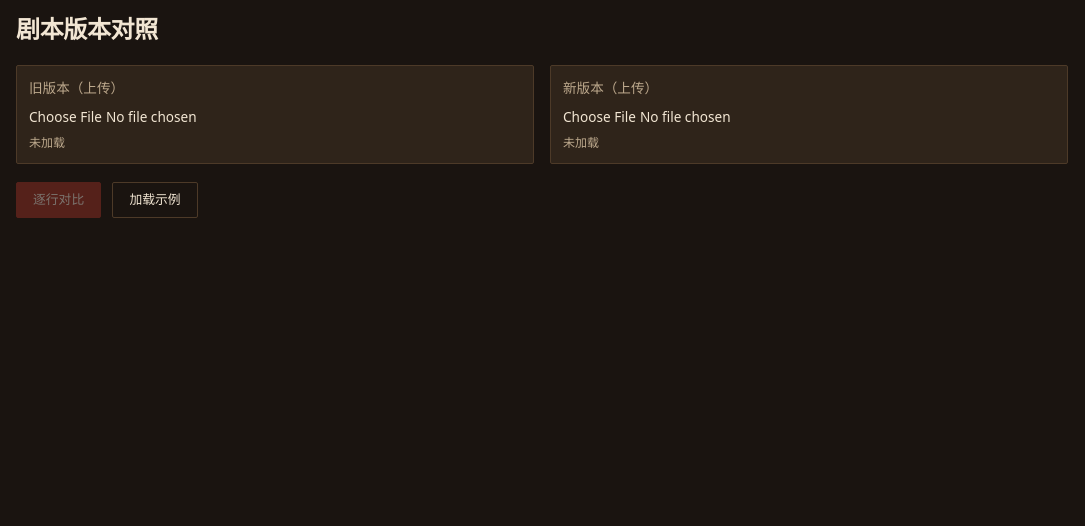
Test case: VersionCompare 双栏逐行 diff › 加载示例并逐行对比，渲染双栏与增删统计
The image size is (1085, 526).
Click the button "加载示例".
click(155, 200)  # box [112, 182, 198, 218]
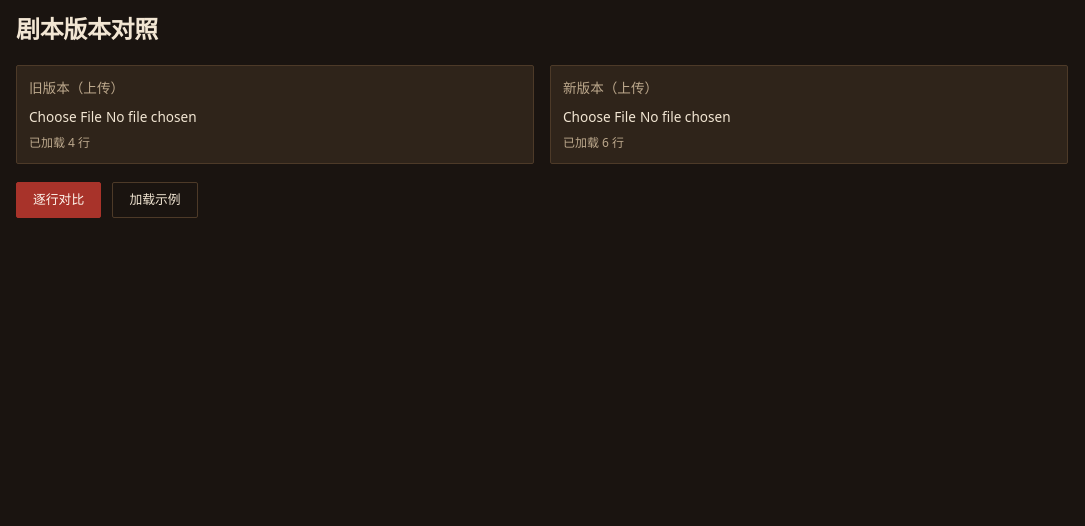
Click the button "逐行对比".
click(59, 200)  # box [16, 182, 101, 218]
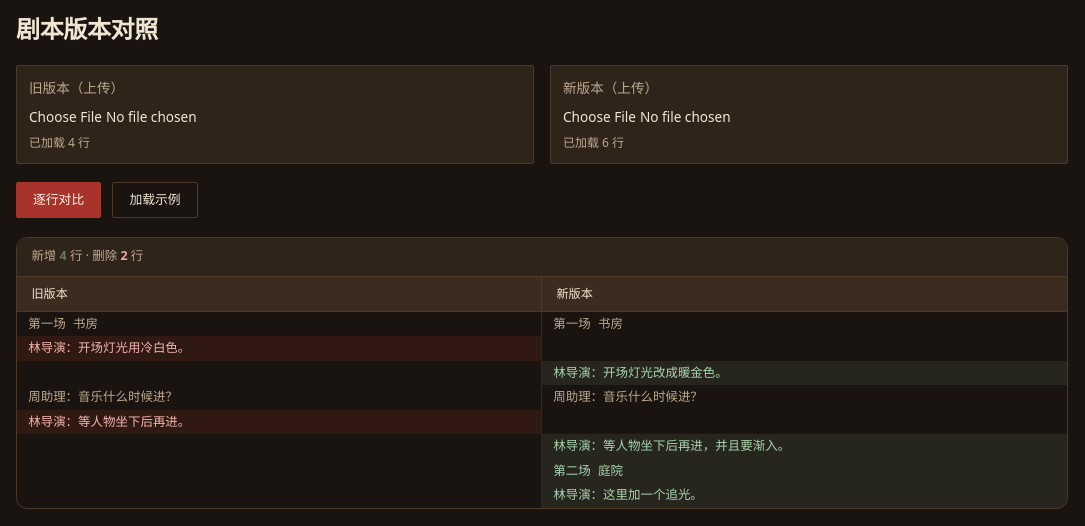
Expected: the element with test id "diff-split" is shown, [16, 237, 1068, 509]
Expected: the text "旧版本" is shown, [17, 277, 542, 311]
Expected: the text "新版本" is shown, [556, 285, 593, 302]
